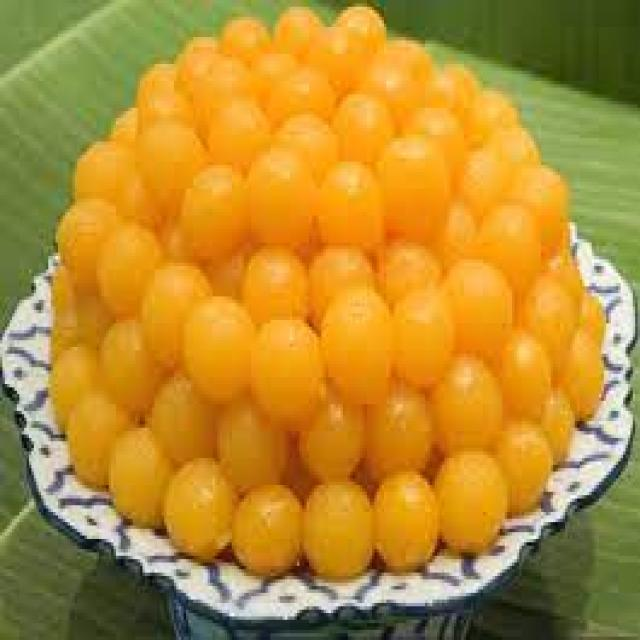Tongyord: (47, 11, 618, 583)
